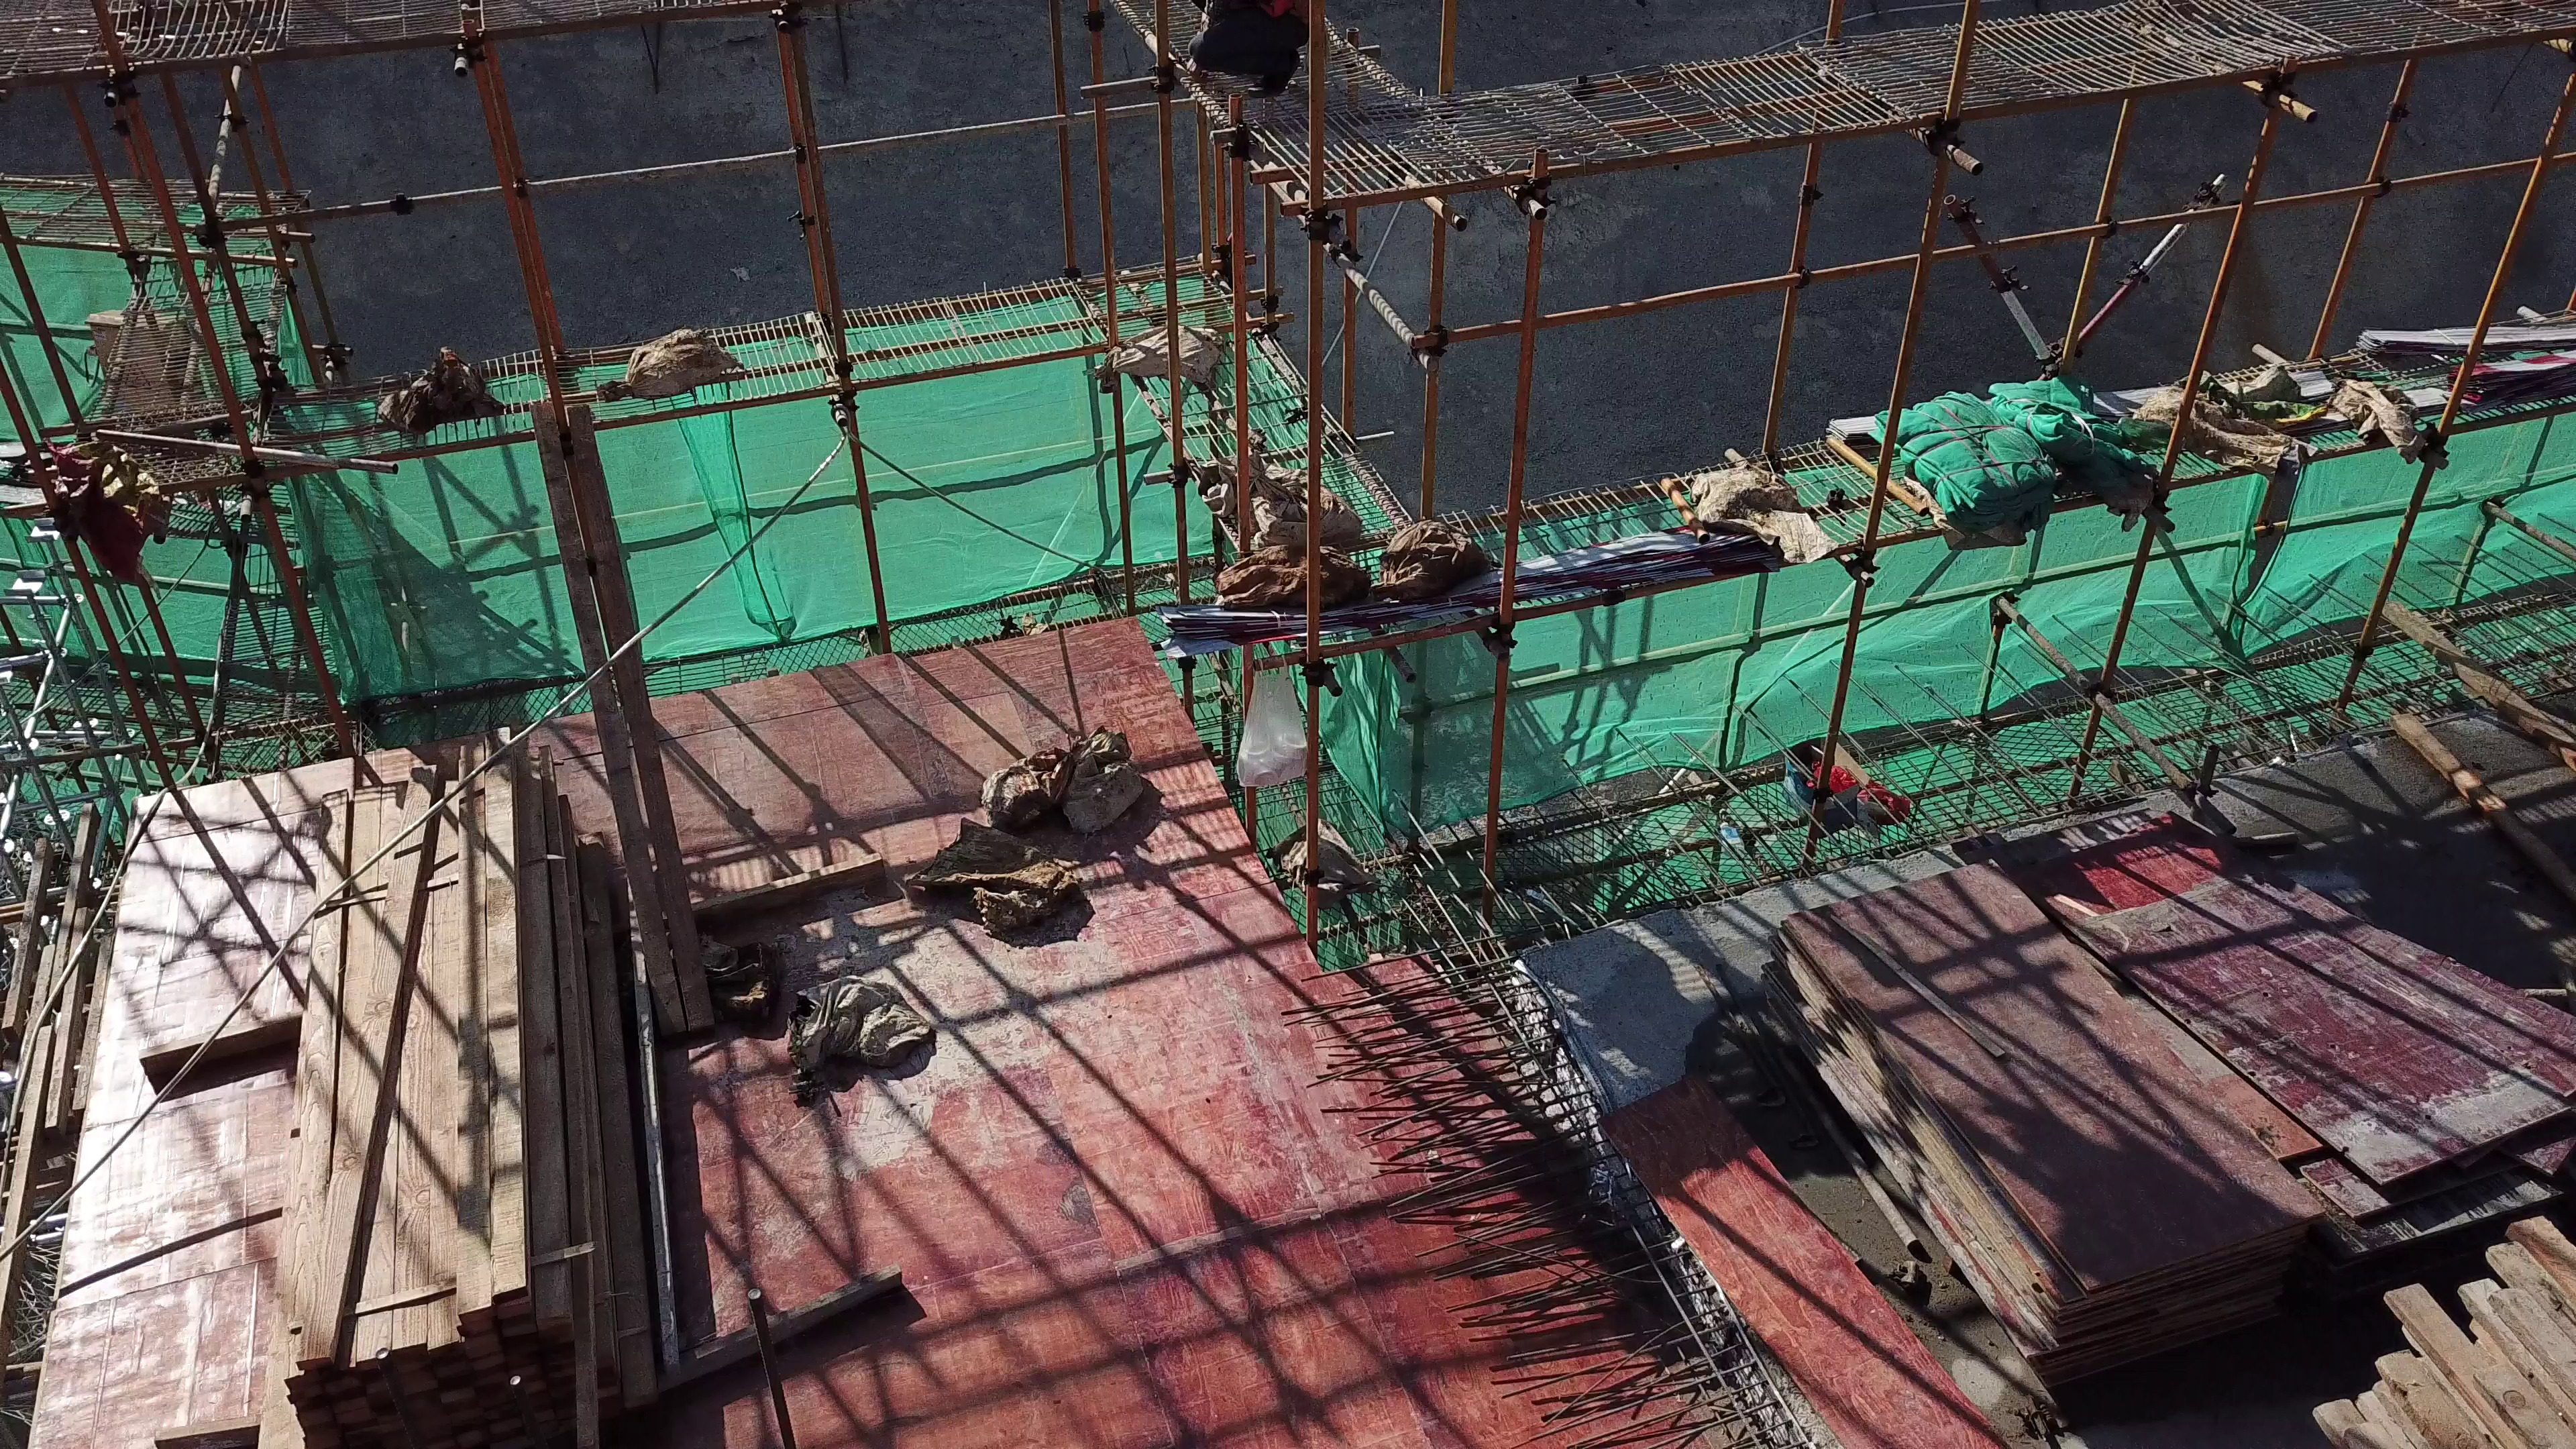board: (1760, 878, 2319, 1407)
wood: (271, 722, 644, 1449), (2307, 1207, 2571, 1449)
